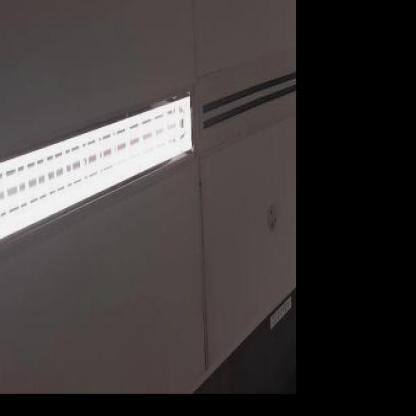light_on: (0, 79, 207, 287)
